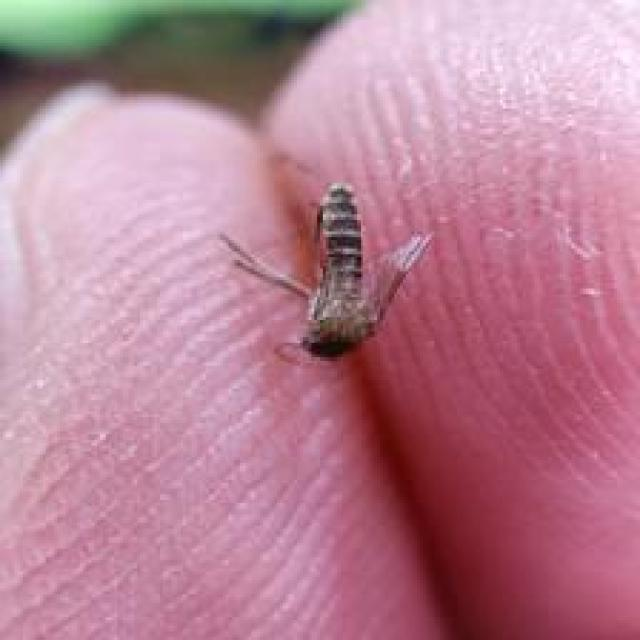Culex: (217, 180, 434, 369)
